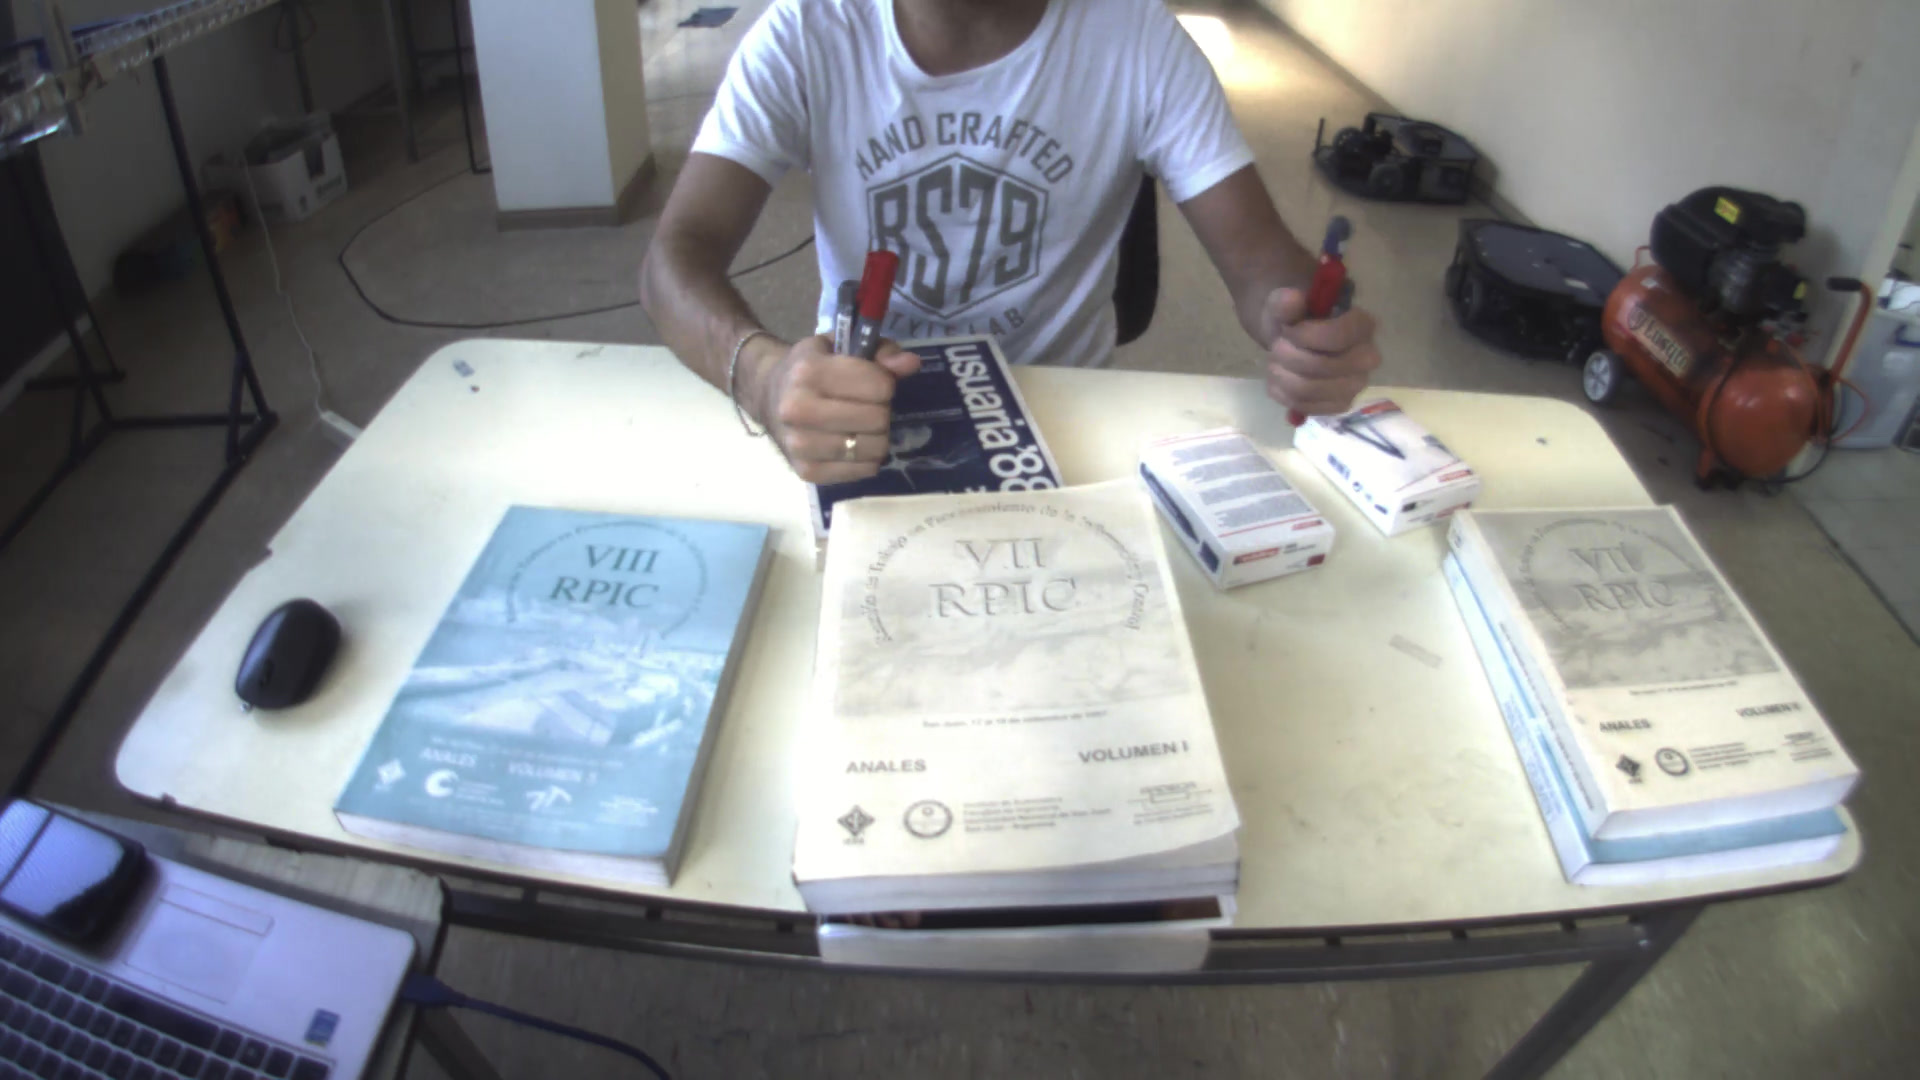hand: (732, 324, 927, 485), (1251, 243, 1396, 425)
